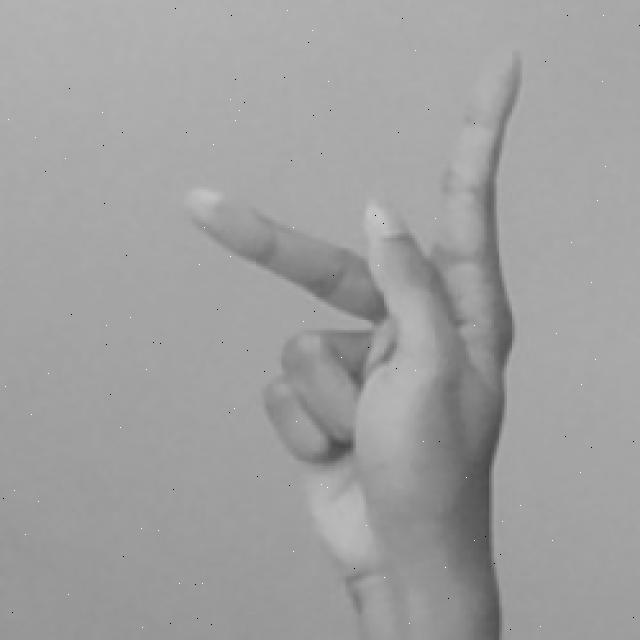K: (180, 38, 539, 640)
